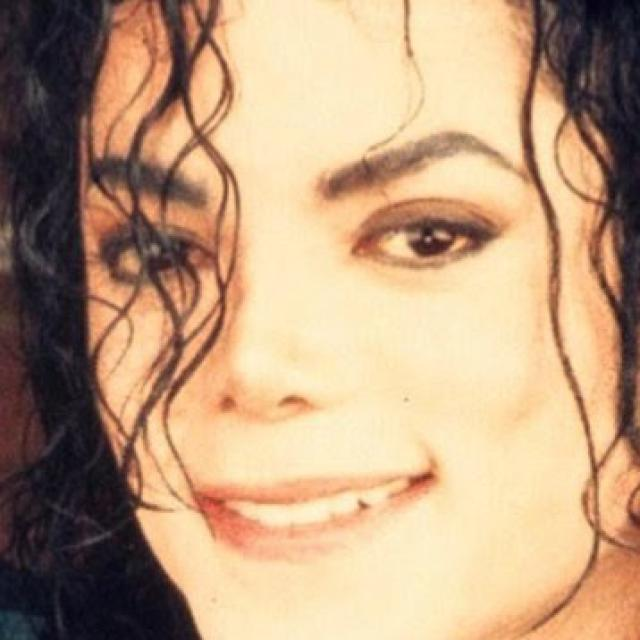Normal: (76, 5, 638, 638)
